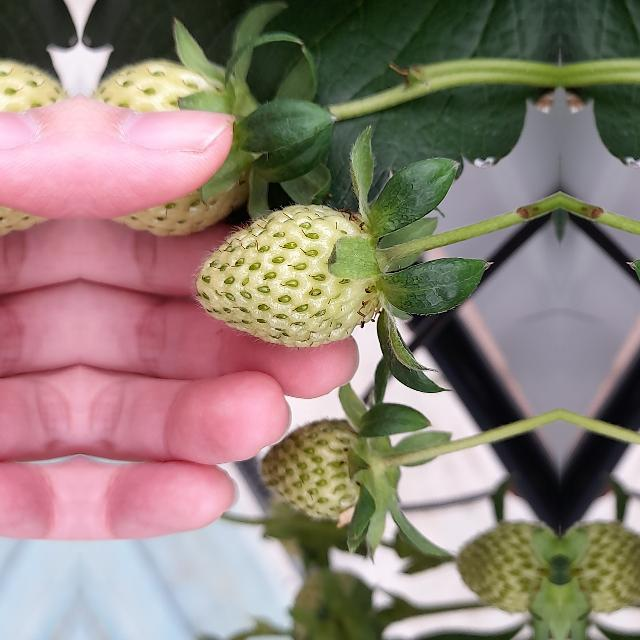Health_25: (195, 205, 378, 348), (257, 414, 388, 524)
